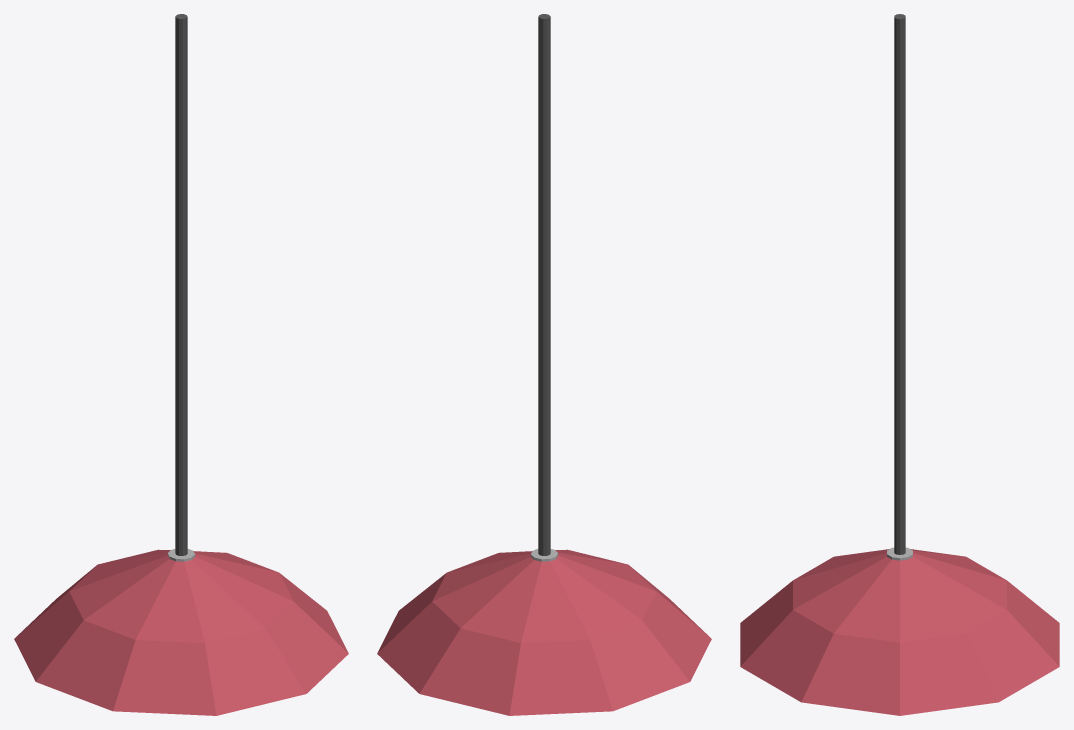
Rendered from Lighthead.fbx.
3 renders of one model, left to right at view 1: azimuth 30°, elevation 25°; view 2: azimuth 150°, elevation 25°; view 3: azimuth 270°, elevation 25°, orthographic.
Parts seen in each view (by area): view 1: Lighthead; view 2: Lighthead; view 3: Lighthead.
Boxes of the visible parts, <box> form: Lighthead: <box>14,14,348,715</box>; Lighthead: <box>377,14,711,715</box>; Lighthead: <box>740,14,1059,715</box>.
Size of the model in its own units: 61.2 by 126 by 58.2.
